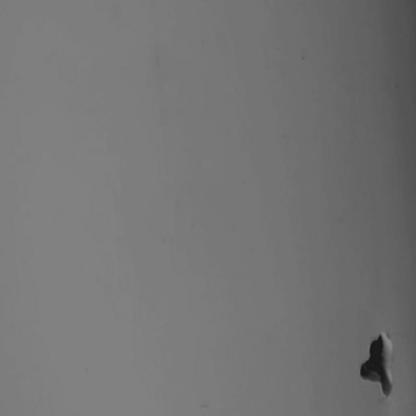kongdong: (355, 317, 401, 403)
